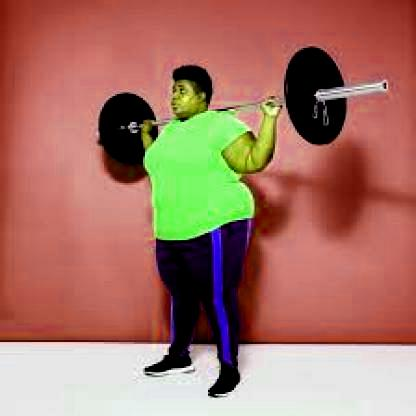Barbell: (375, 77, 391, 98)
